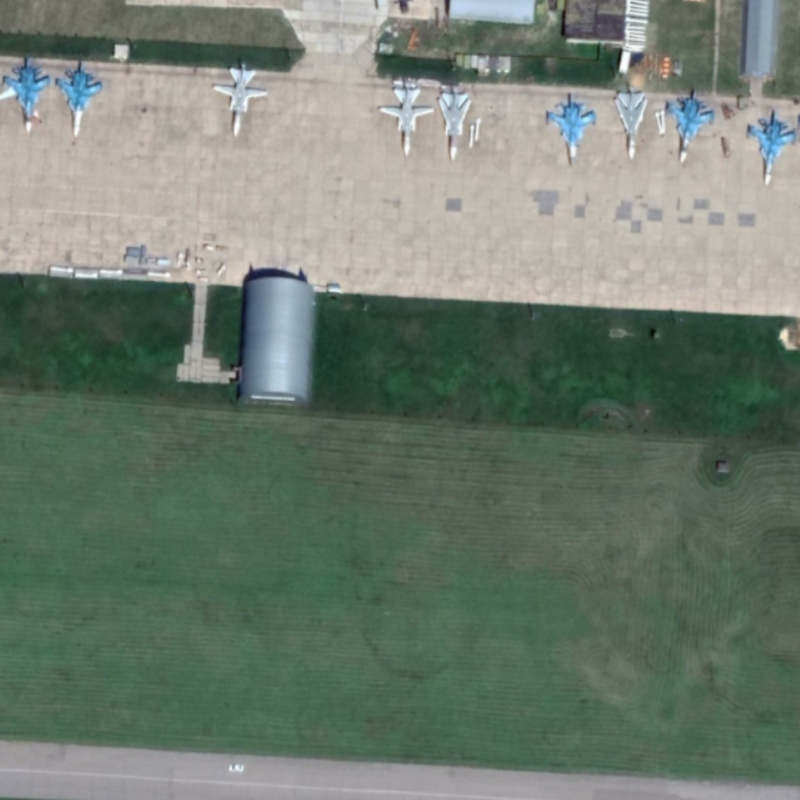A19: (746, 111, 798, 188), (3, 55, 53, 135), (54, 60, 105, 138), (547, 91, 598, 168), (665, 90, 718, 164)
A20: (212, 61, 270, 139), (378, 86, 435, 159), (436, 86, 472, 163), (613, 86, 649, 161)
